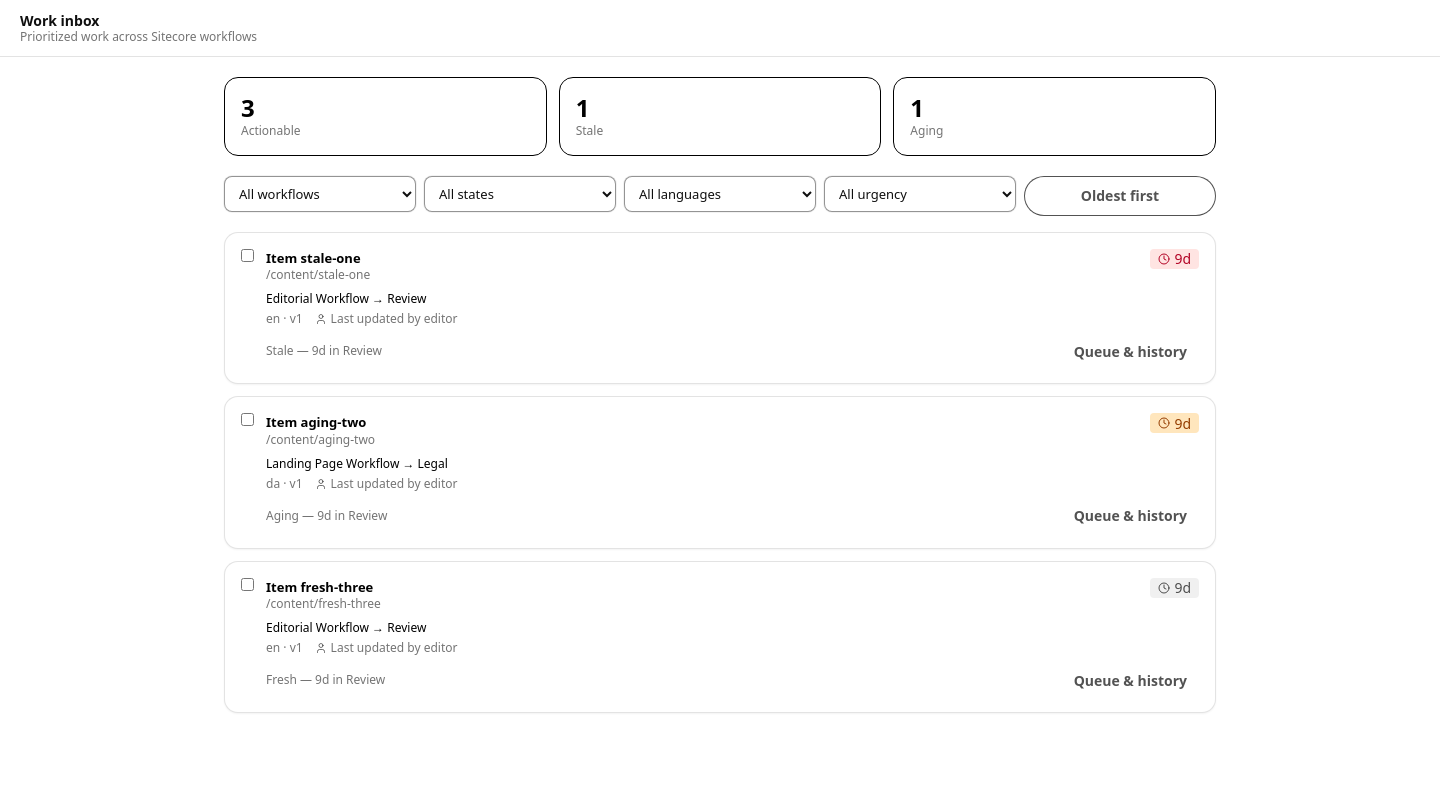
Test: Work inbox › lists every item in confirmation and continues after failures and stale skips
What coordinates should you click on to do the following:
click the checkbox with test id "checkbox-inbox-stale-one"
I would click on:
 (248, 255)
Its box is [241,249,254,262].
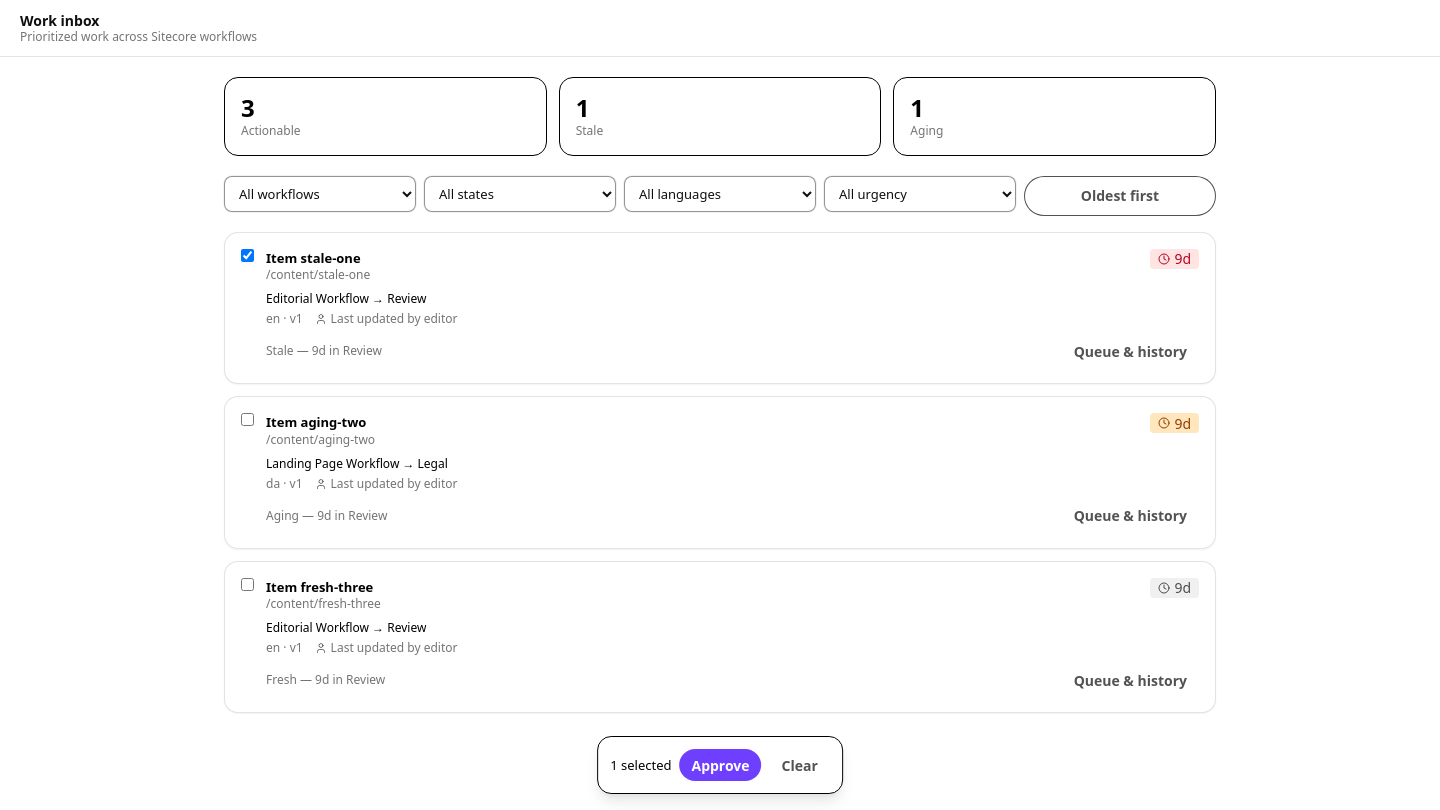
What coordinates should you click on to do the following:
click the checkbox named "Select Item aging-two"
I would click on:
 (248, 420)
Its box is [241,413,254,426].
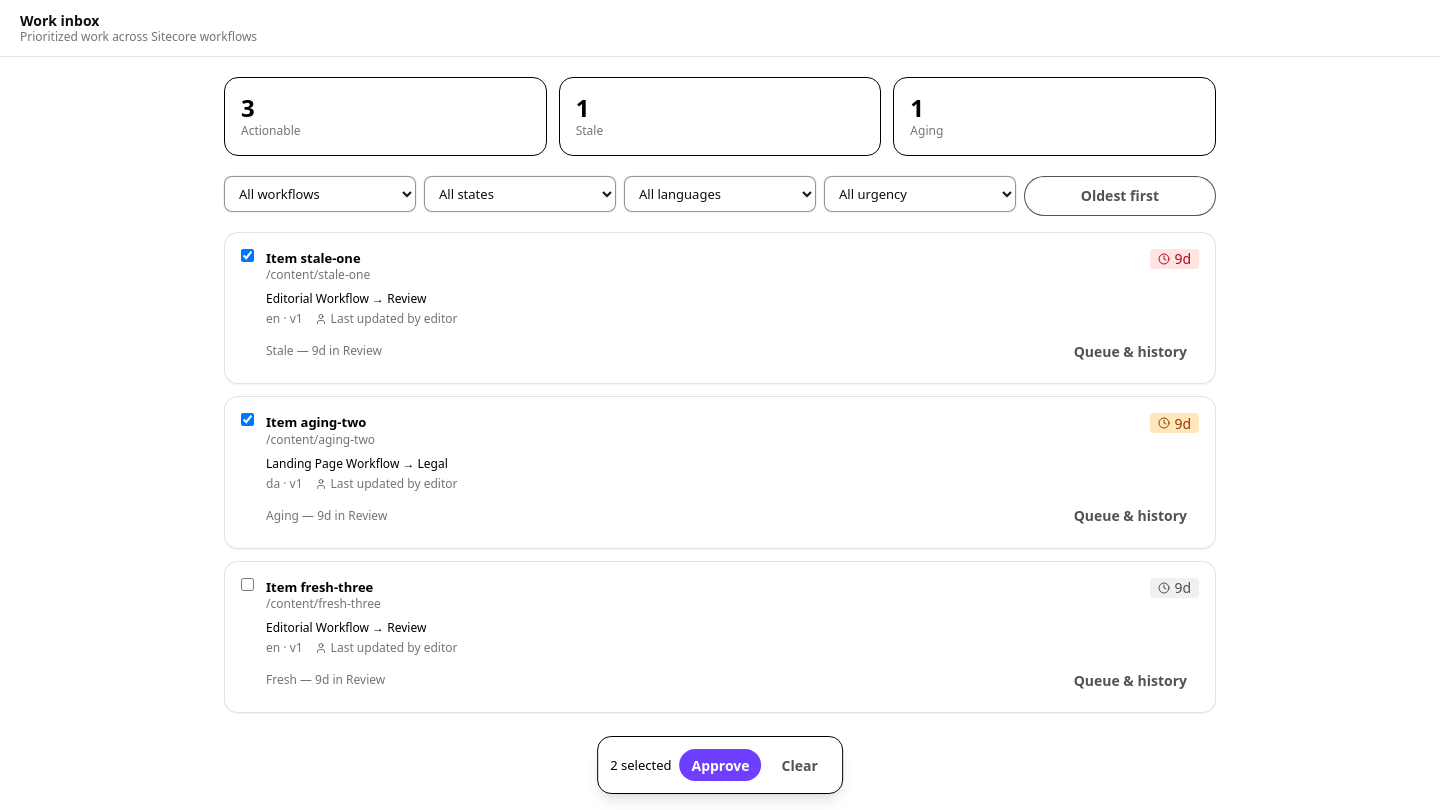
What coordinates should you click on to do the following:
click the checkbox with test id "checkbox-inbox-fresh-three"
I would click on:
 (248, 584)
Its box is [241,578,254,591].
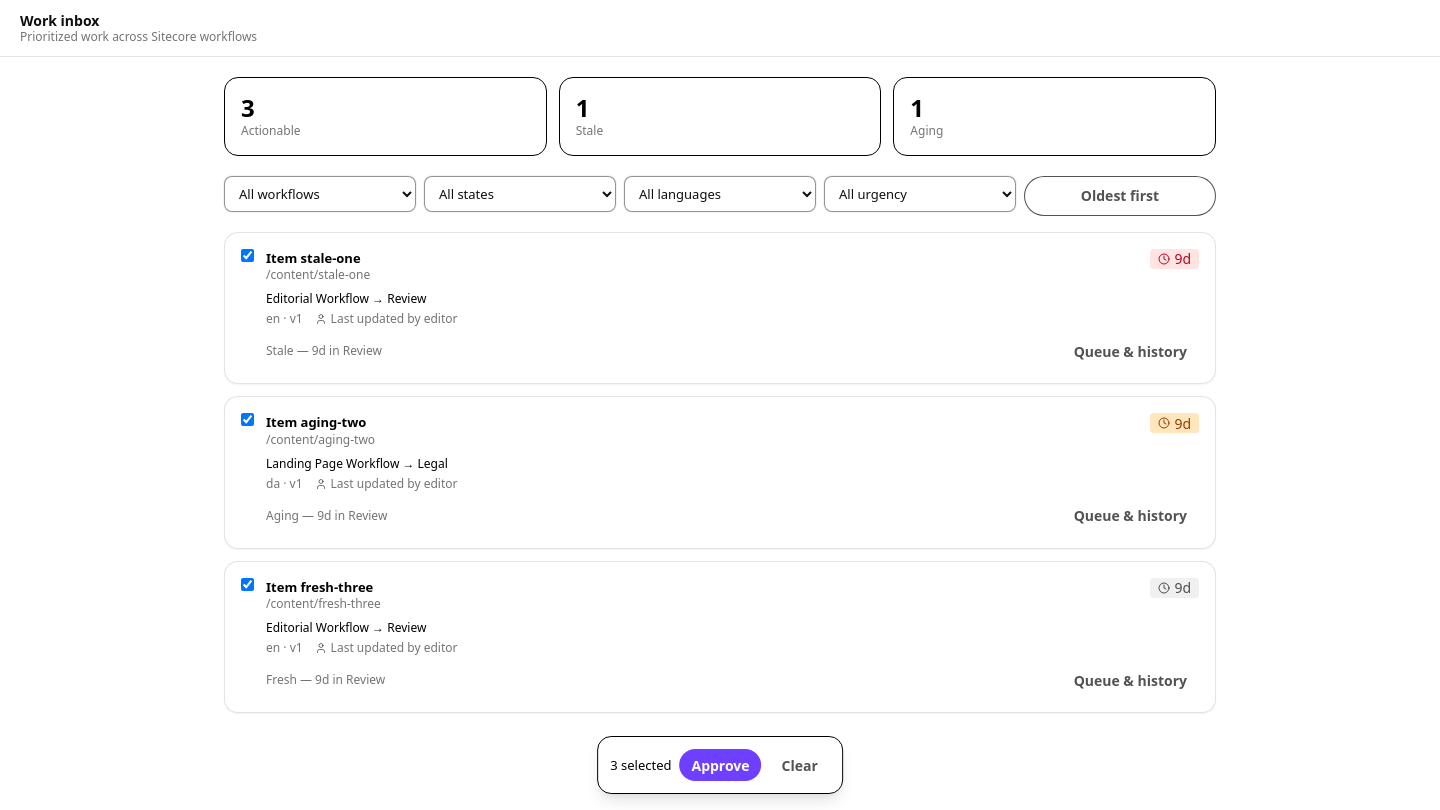
What coordinates should you click on to do the following:
click the button with test id "button-bulk-approve"
I would click on:
 (721, 765)
Its box is [680,749,762,781].
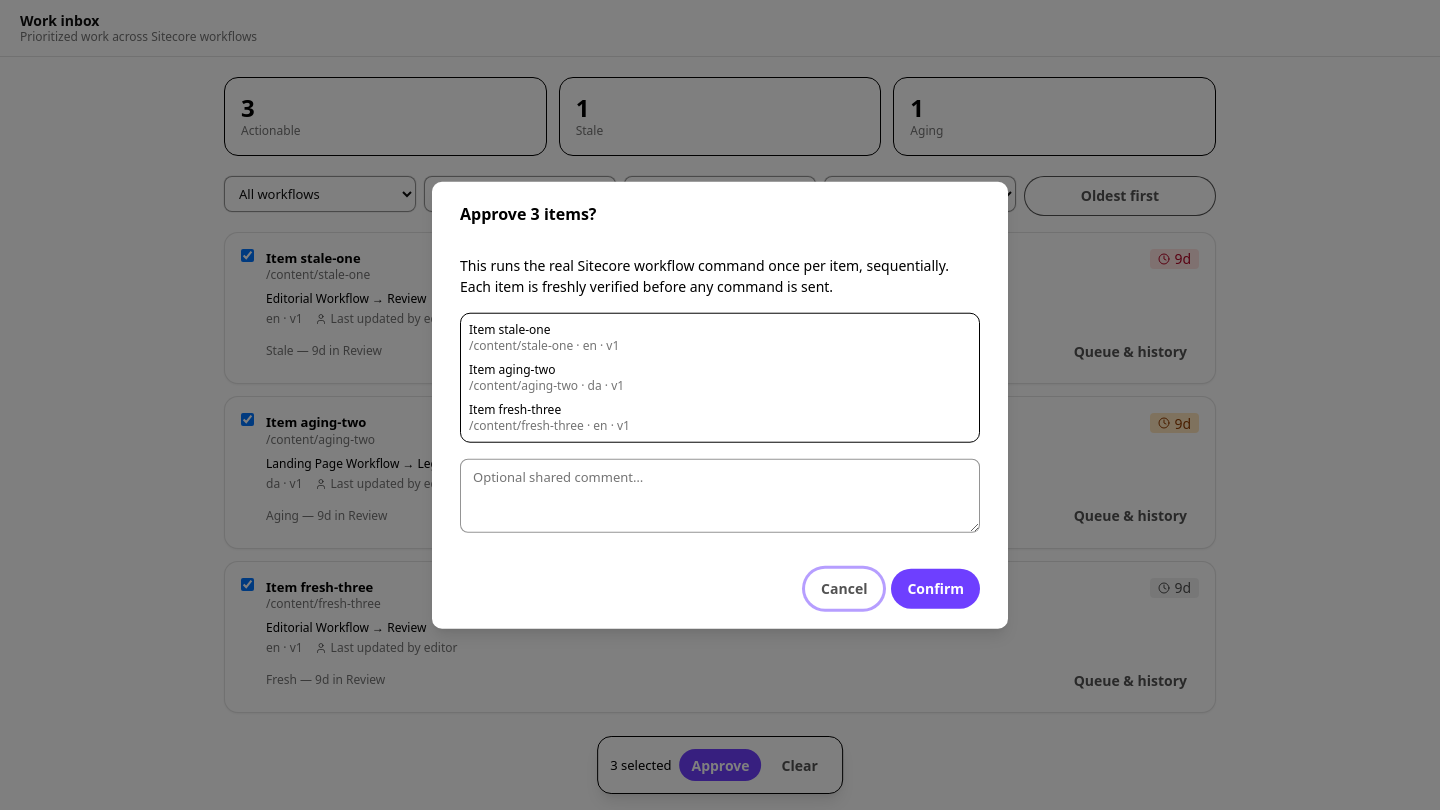
Result: the text "Item stale-one" is shown at [469,321,550,338]
Result: the text "Item aging-two" is shown at [469,361,555,378]
Result: the text "Item fresh-three" is shown at [469,401,561,418]
What coordinates should you click on to do the following:
click the button with test id "button-confirm-bulk"
I would click on:
 (936, 588)
Its box is [891,568,980,608].
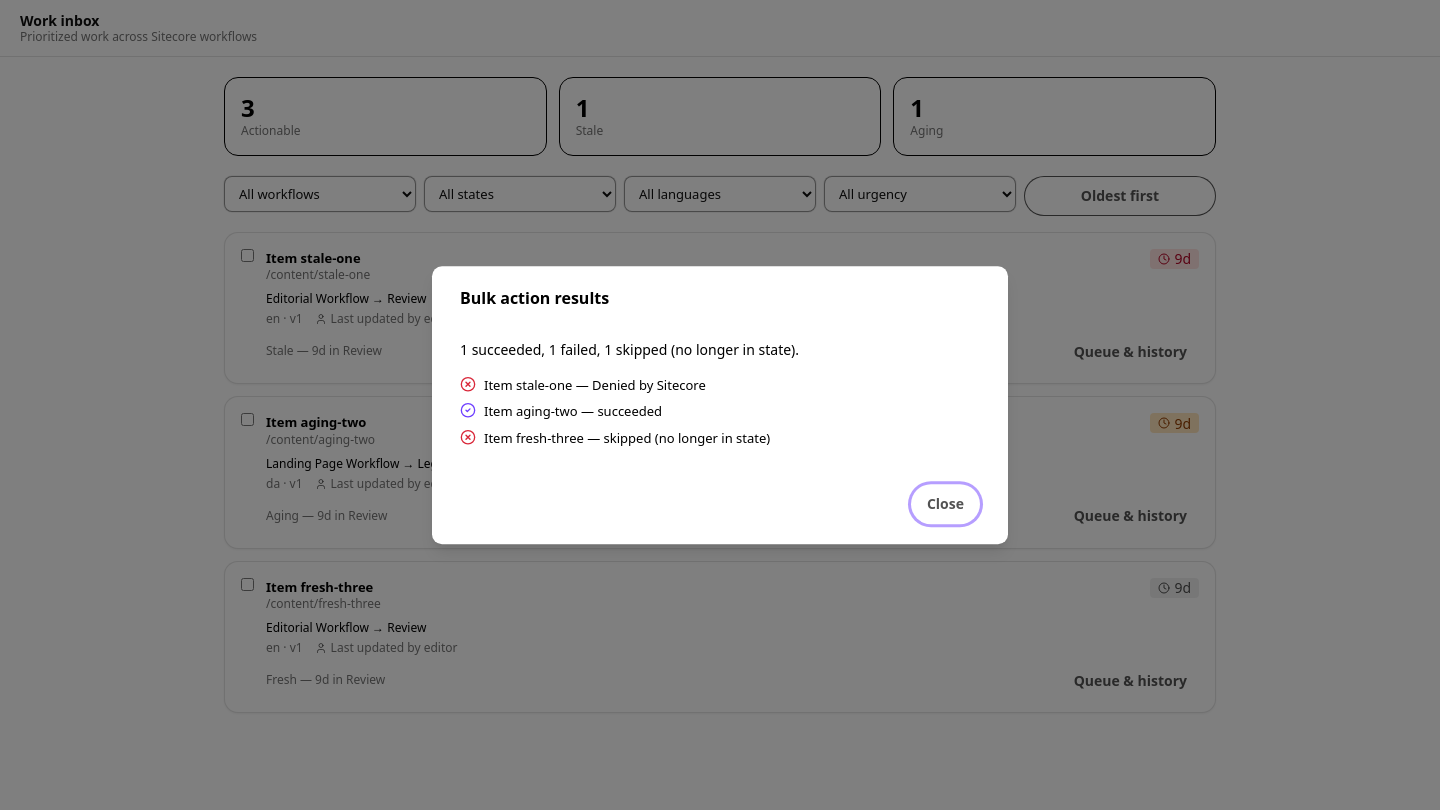
Result: the text "1 succeeded, 1 failed, 1 skipped (no longer in state)." is shown at [460,340,799,359]
Result: the list item with test id "result-failed-stale-one" shows "Denied by Sitecore" at [592,376,706,394]
Result: the list item with test id "result-success-aging-two" is shown at [460,403,662,421]
